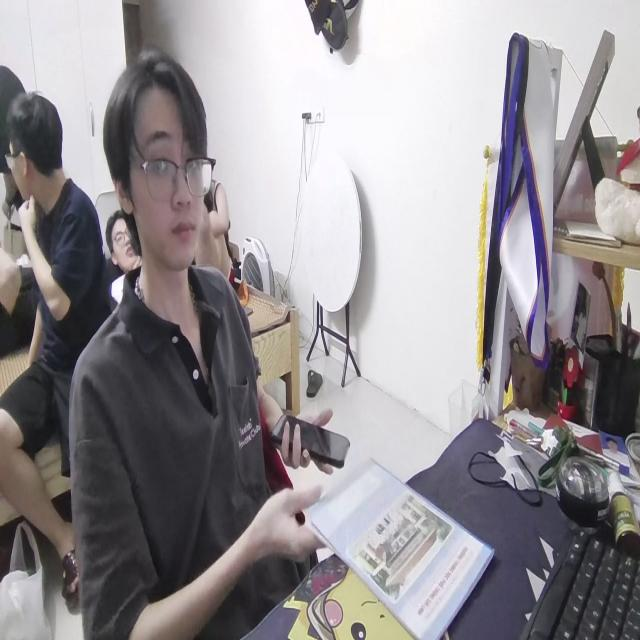book: (301, 450, 496, 640)
extra_person: (1, 87, 134, 601), (110, 202, 134, 302)
phone: (271, 402, 348, 470)
student: (66, 49, 330, 637)
